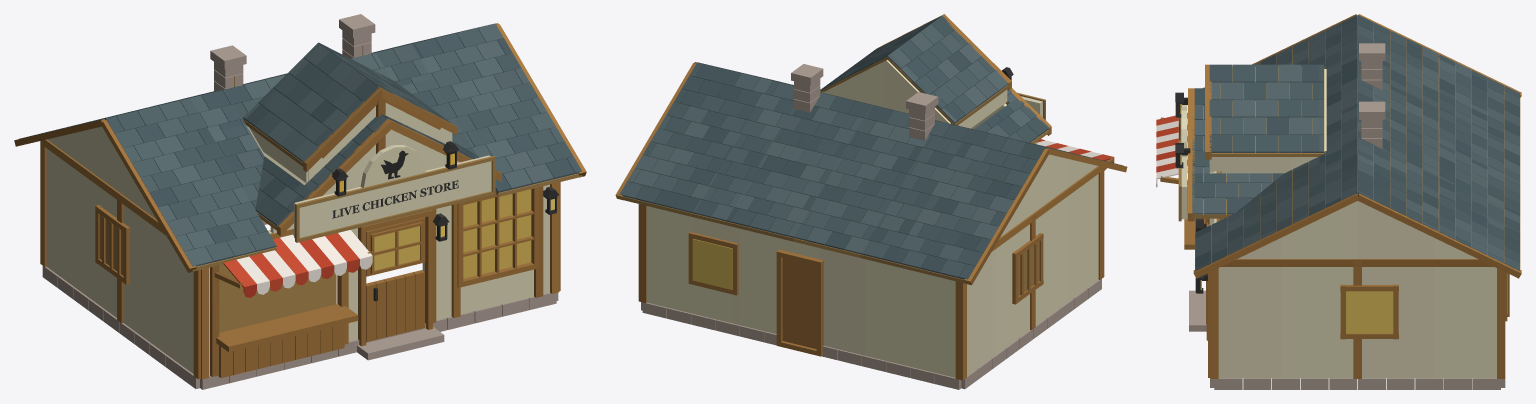
The model's file is ChickenStore_A.fbx.
3 renders of one model, left to right at view 1: azimuth 30°, elevation 25°; view 2: azimuth 150°, elevation 25°; view 3: azimuth 270°, elevation 25°, orthographic. The views are drawn at different scales.
Visible parts, largest first — view 1: ChickenStore_A_Body, ChickenStore_A_DoorLeaf.001; view 2: ChickenStore_A_Body; view 3: ChickenStore_A_Body.
Part boxes in pixels (x1,y1,x2,y2): ChickenStore_A_Body: [14, 14, 586, 389]; ChickenStore_A_DoorLeaf.001: [366, 217, 425, 341]; ChickenStore_A_Body: [615, 14, 1127, 389]; ChickenStore_A_Body: [1156, 14, 1521, 389].
Bounding box in the file's own units: 8.96 × 5.6 × 7.64.
